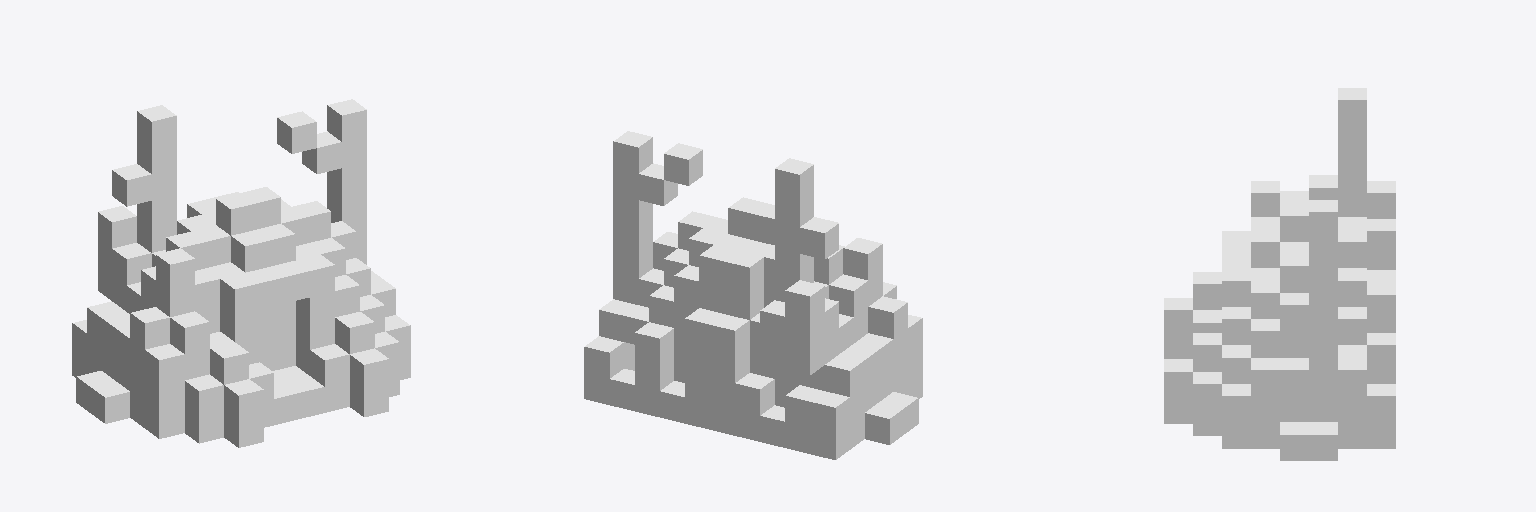
Rendered from tile_dunjeon.obj.
3 views of the same model, side by side, from view 1: azimuth 30°, elevation 25°; view 2: azimuth 150°, elevation 25°; view 3: azimuth 270°, elevation 25° (orthographic).
Bounding box in the file's own units: 12 × 10 × 8.